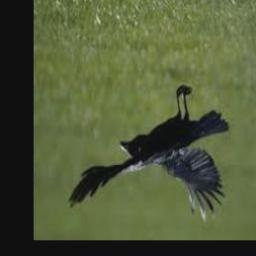Crow: (69, 85, 230, 228)
